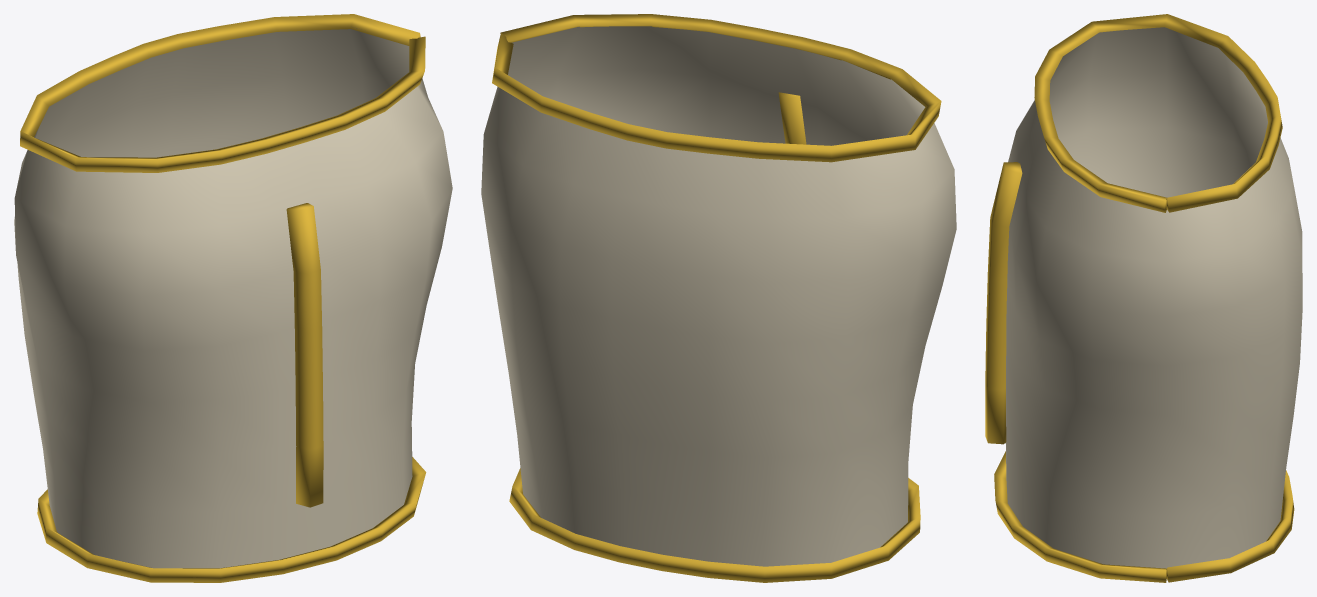
Rendered from radiant_armor_chest.glb.
3 views of the same model, side by side, from view 1: azimuth 30°, elevation 25°; view 2: azimuth 150°, elevation 25°; view 3: azimuth 270°, elevation 25° (orthographic). The views are drawn at different scales.
Parts seen in each view (by area): view 1: radiant_armor_chest; view 2: radiant_armor_chest; view 3: radiant_armor_chest.
Part boxes in pixels (x1=…): radiant_armor_chest: x1=14, y1=14, x2=452, y2=582; radiant_armor_chest: x1=481, y1=14, x2=956, y2=582; radiant_armor_chest: x1=985, y1=14, x2=1302, y2=582.
Bounding box in the file's own units: 0.3976 × 0.3857 × 0.2799.
